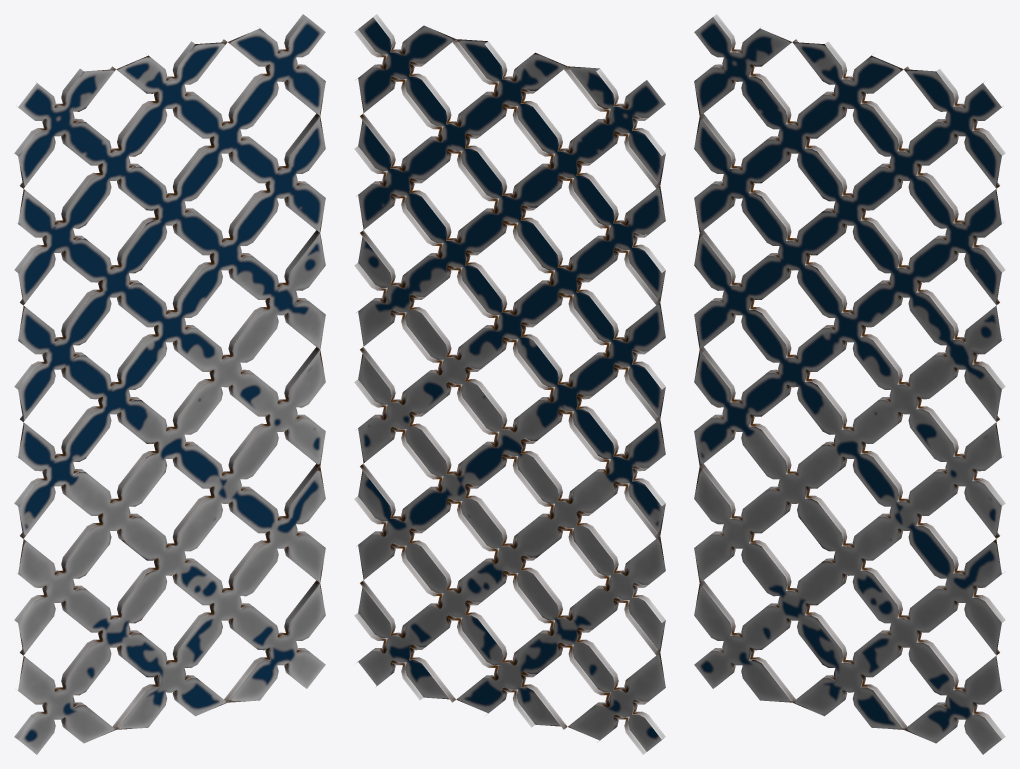
Rendered from BarredWindow_A.fbx.
The picture shows the model from 3 angles, left to right: view 1: azimuth 30°, elevation 25°; view 2: azimuth 150°, elevation 25°; view 3: azimuth 330°, elevation 25°; orthographic projection.
Parts seen in each view (by area): view 1: U_BarredWindow_A; view 2: U_BarredWindow_A; view 3: U_BarredWindow_A.
Part boxes in pixels (left/top/right/bottom): U_BarredWindow_A: left=14, top=14, right=325, bottom=754; U_BarredWindow_A: left=354, top=14, right=665, bottom=754; U_BarredWindow_A: left=694, top=14, right=1005, bottom=754.
Bounding box in the file's own units: 105 × 220 × 2.37.
Materials: 1 (1 with a texture image).
